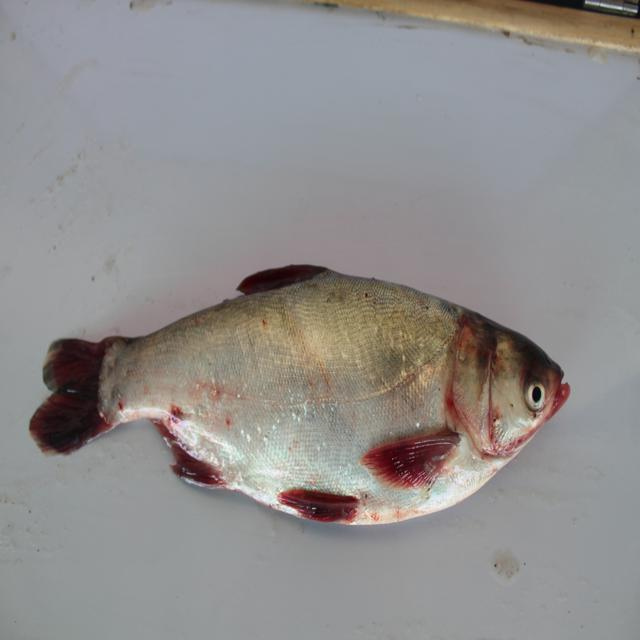SilverCarp: (15, 265, 594, 534)
